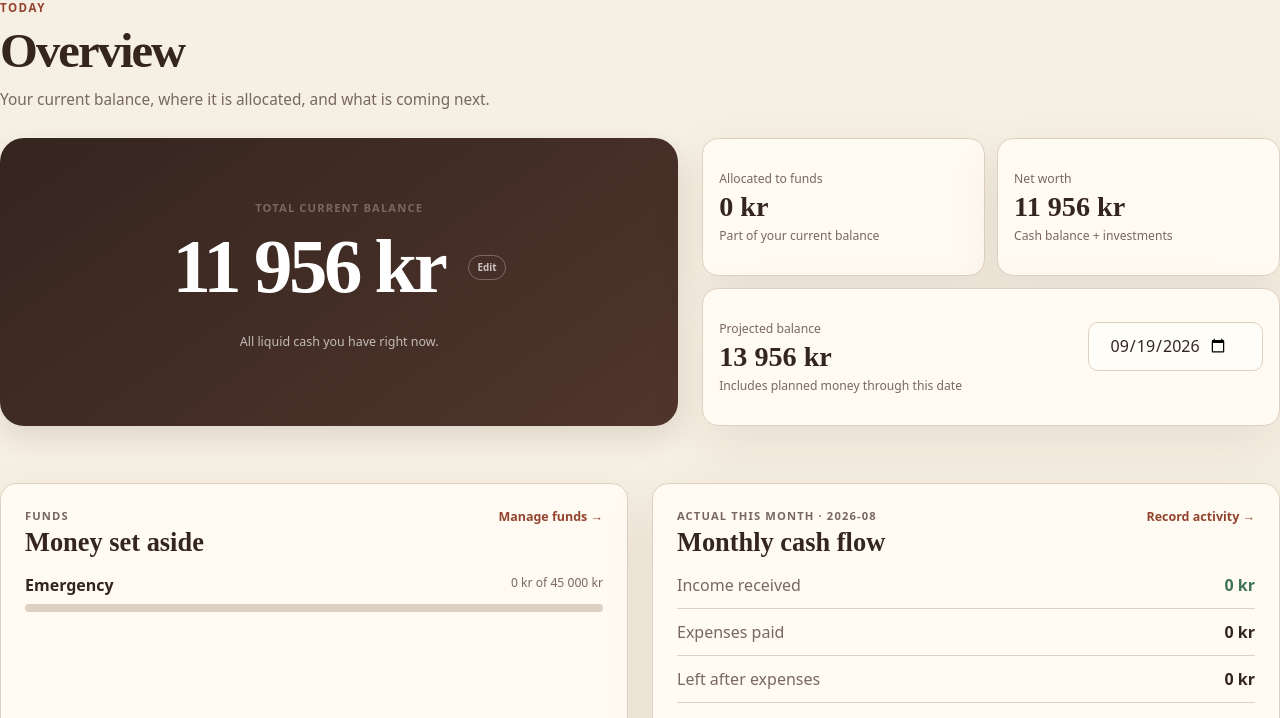
Phase 8 cockpit UI › opens the confirmed adjustment flow from total current balance
Click the button with aria-label "Edit total current balance".
click(339, 267)  # box [173,223,506,311]
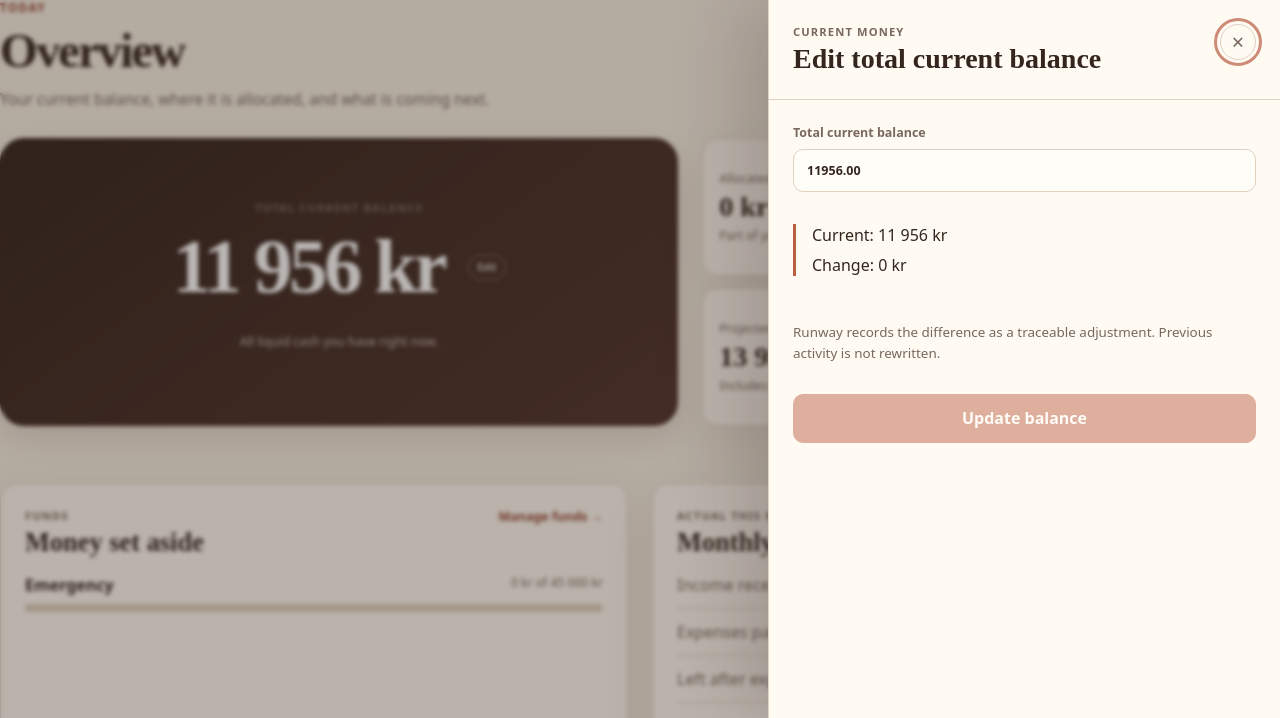
Expected: the field named "New total current balance" holds "11956.00", [793,149,1256,192]
Expected: the text "traceable adjustment" is shown, [793,323,1212,362]
